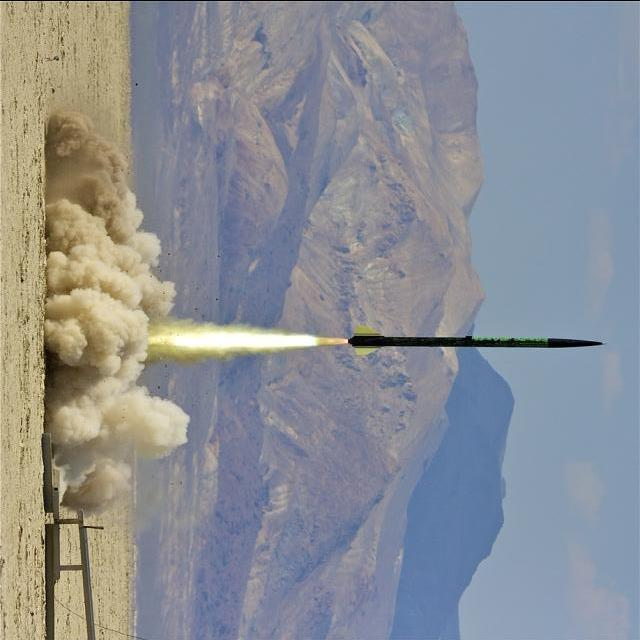missile: (346, 324, 608, 356)
